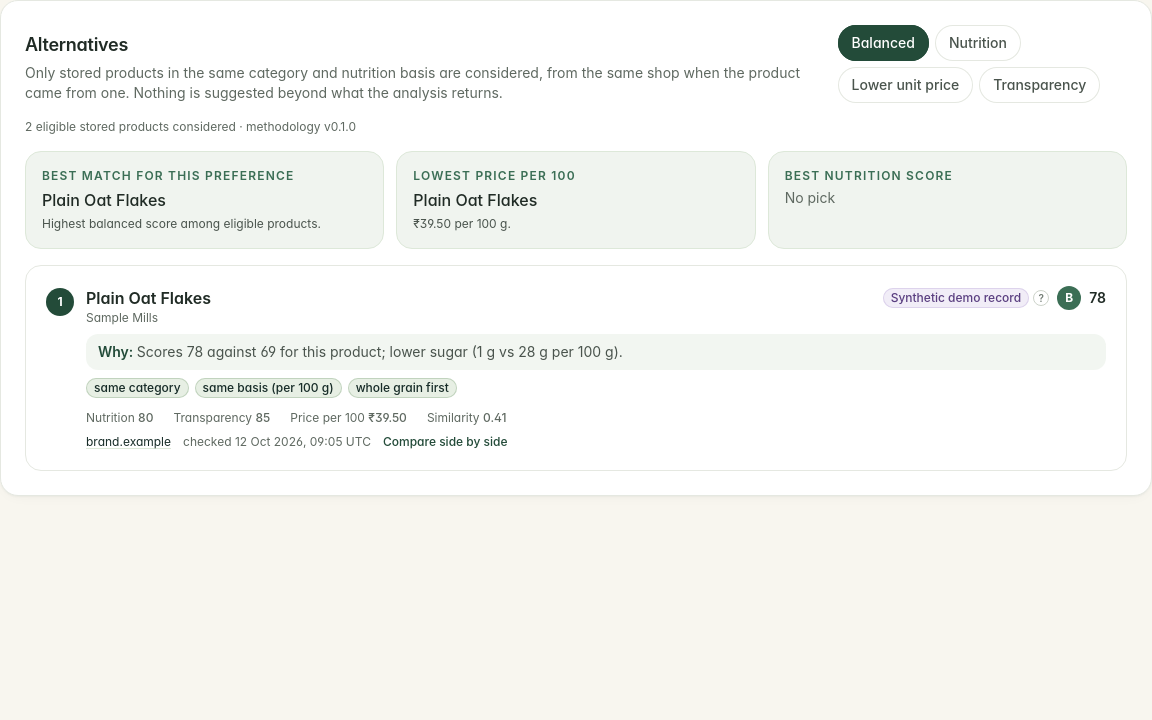
Scenario: AlternativesPanel › re-queries with the chosen preference and shows the API message when nothing fits
Expected: the text "Scores 78 against 69" is shown, [137,343,623,360]
Click the radio button labelled "Nutrition". click: (978, 43)
box: [935,25,1021,61]
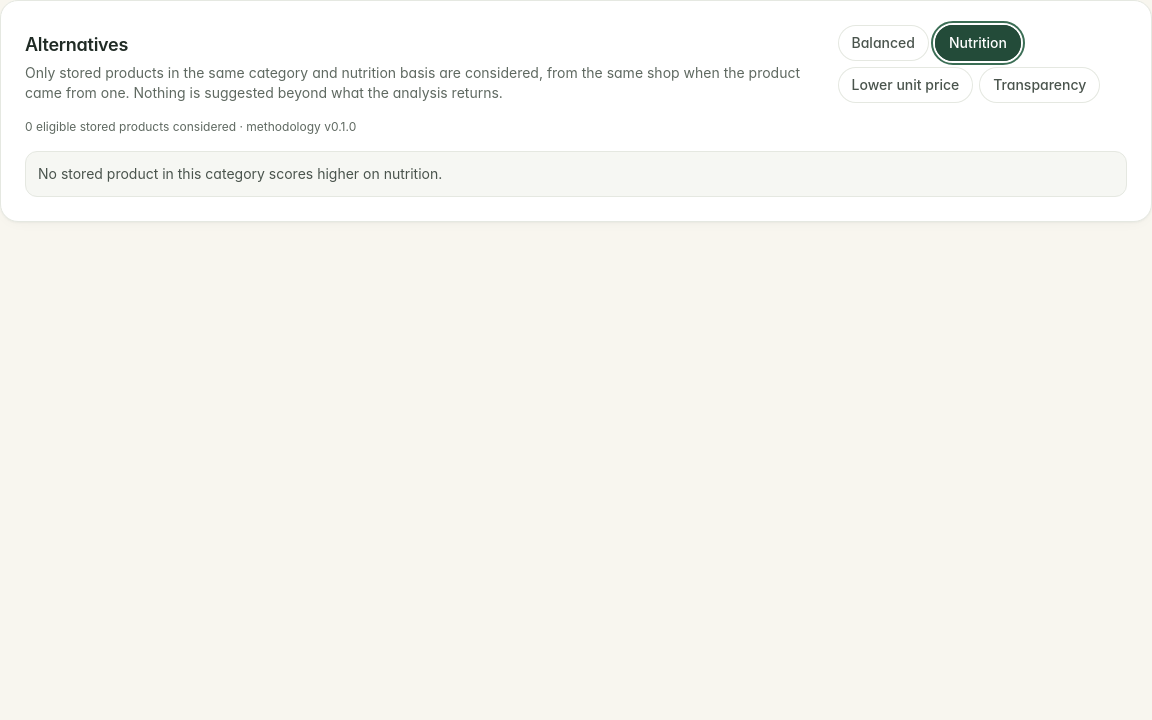
Result: the text "No stored product in this category scores higher on nutrition." is shown at [25,151,1127,197]
Result: the text "Scores 78 against 69" is gone
